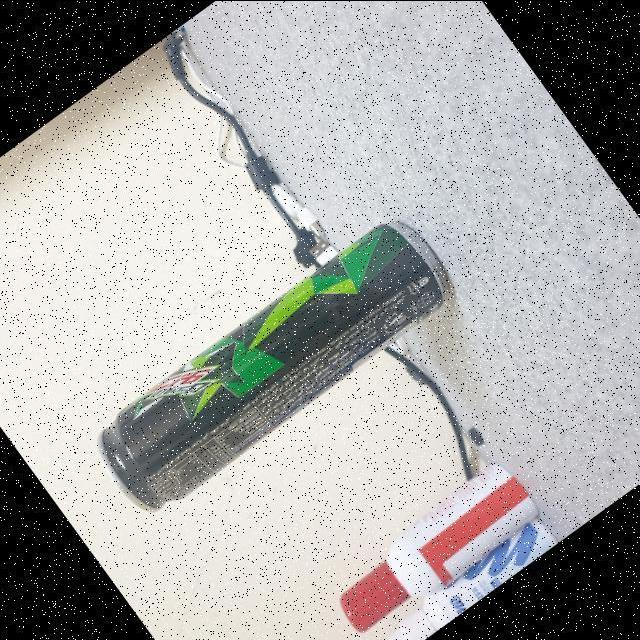can: (65, 191, 474, 537)
